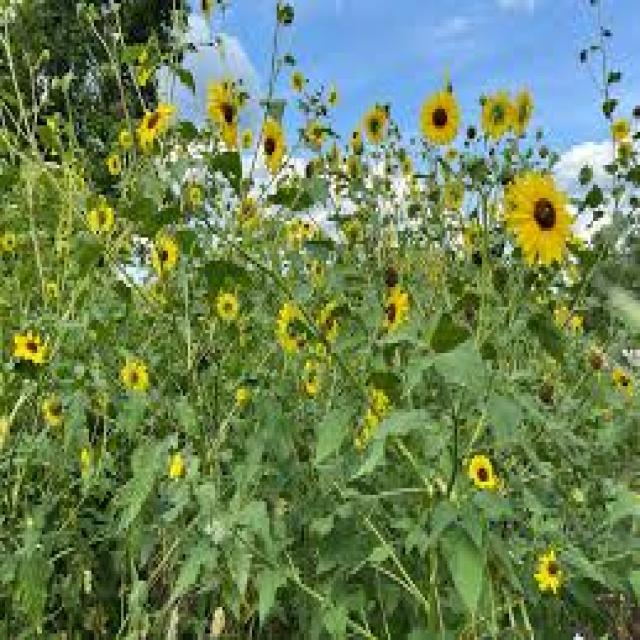sunflower: (500, 158, 578, 276), (203, 75, 243, 162), (418, 83, 462, 151), (476, 87, 515, 149), (502, 83, 538, 146), (258, 116, 292, 177), (275, 300, 312, 356), (381, 280, 414, 342), (536, 545, 571, 597), (138, 99, 174, 148), (361, 102, 389, 160), (464, 453, 500, 498), (6, 328, 54, 361), (151, 228, 182, 276), (120, 349, 148, 401), (299, 120, 330, 158), (91, 200, 118, 243), (614, 359, 640, 403), (167, 446, 195, 486), (608, 116, 634, 158), (38, 396, 68, 430), (584, 346, 609, 386), (304, 350, 324, 398), (318, 309, 339, 354), (285, 69, 309, 106), (215, 292, 239, 326), (299, 214, 317, 246), (104, 154, 121, 179)
